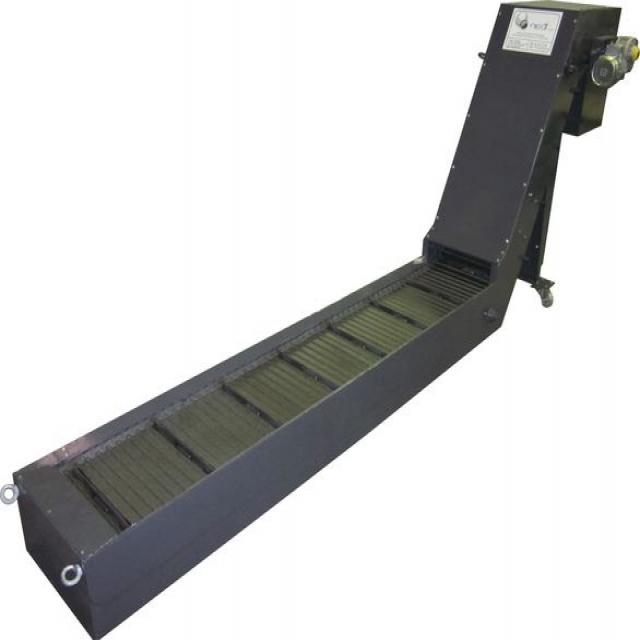Convoyeur: (6, 2, 625, 640)
